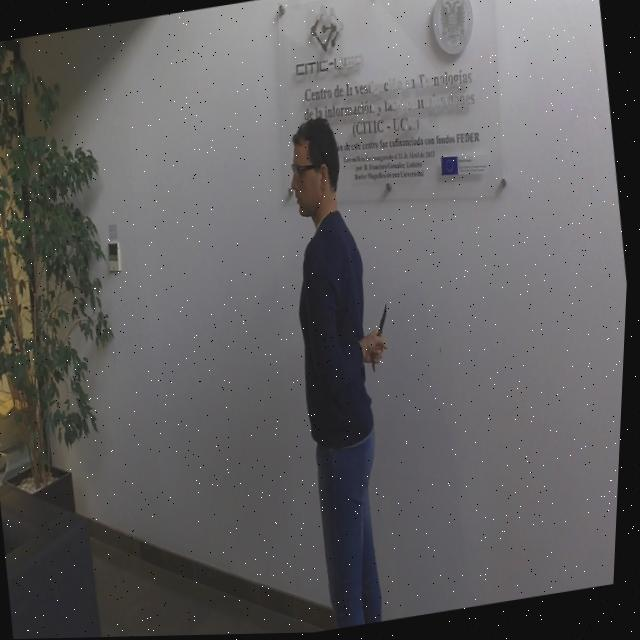knife: (376, 302, 398, 340)
